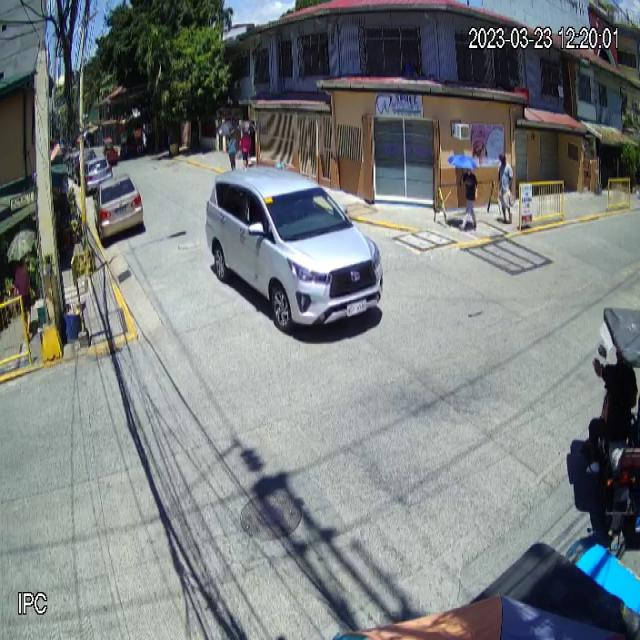Car: (205, 166, 384, 335), (92, 171, 143, 242)
